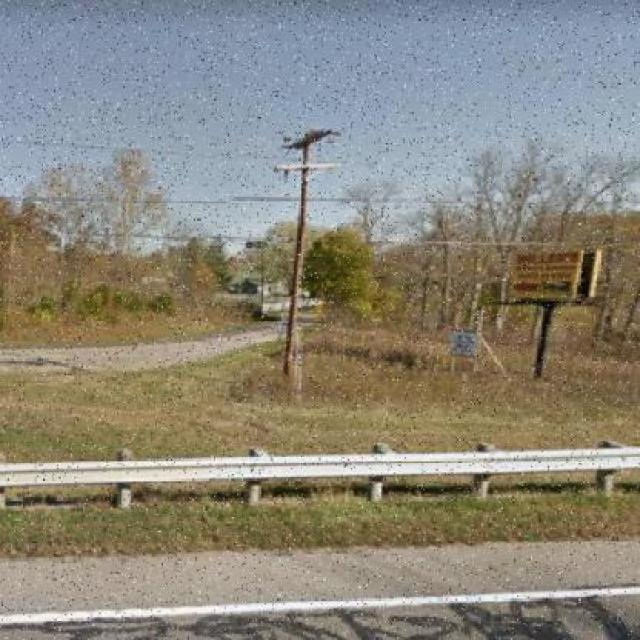pole: (255, 90, 352, 404)
